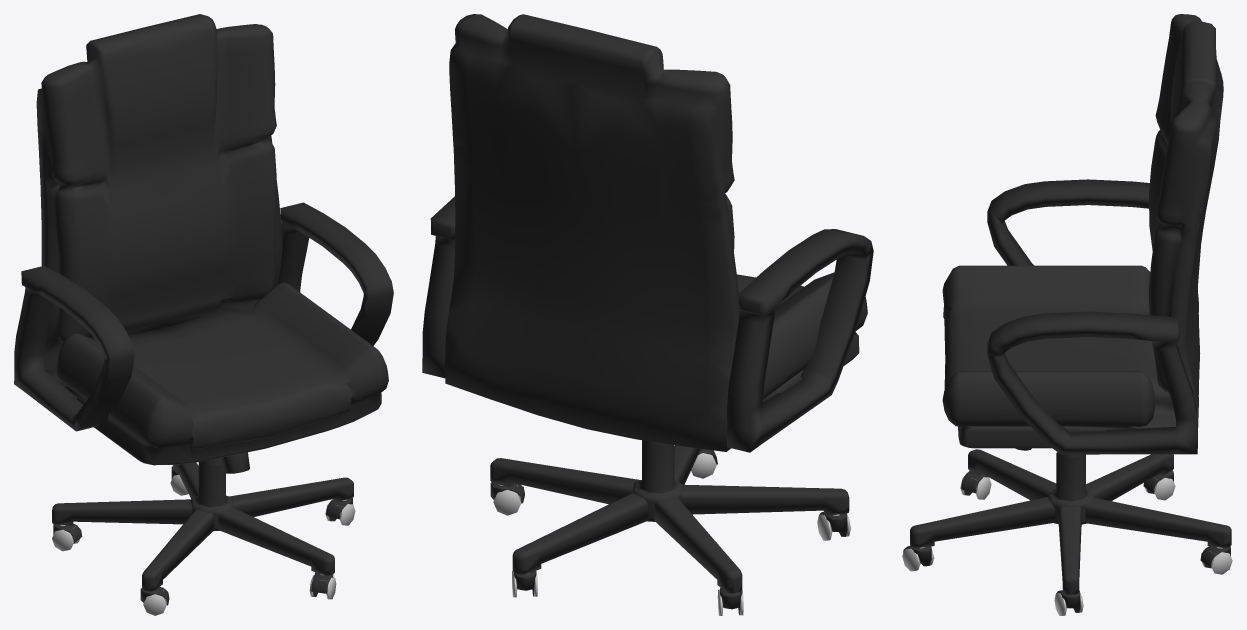
Rendered from chair.glb.
3 views of the same model, side by side, from view 1: azimuth 30°, elevation 25°; view 2: azimuth 150°, elevation 25°; view 3: azimuth 270°, elevation 25° (orthographic). The views are drawn at different scales.
Parts seen in each view (by area): view 1: ChairBack_LP, ChairSeat_LP4, pCube37, pCube38, Leg_LP2, Leg_LP5, Leg_LP4, Leg_LP1, Underside_LP, Leg_LP3; view 2: ChairBack_LP, pCube37, ChairSeat_LP4, Leg_LP1, Leg_LP3, pCube38, Leg_LP4, Leg_LP2, Underside_LP, Leg_LP5; view 3: ChairSeat_LP4, ChairBack_LP, pCube38, pCube37, Leg_LP3, Leg_LP5, Leg_LP1, Leg_LP2, Underside_LP, Leg_LP4.
Part boxes in pixels (left/top/right/bottom): ChairBack_LP: left=36, top=14, right=282, bottom=371; ChairSeat_LP4: left=46, top=282, right=388, bottom=465; pCube37: left=14, top=265, right=134, bottom=431; pCube38: left=278, top=202, right=393, bottom=345; Leg_LP2: left=52, top=499, right=192, bottom=525; Leg_LP5: left=218, top=508, right=334, bottom=575; Leg_LP4: left=229, top=477, right=353, bottom=516; Leg_LP1: left=142, top=509, right=214, bottom=591; Underside_LP: left=190, top=452, right=249, bottom=531; Leg_LP3: left=173, top=462, right=198, bottom=498; ChairBack_LP: left=445, top=14, right=739, bottom=451; pCube37: left=727, top=229, right=873, bottom=452; ChairSeat_LP4: left=737, top=272, right=867, bottom=402; Leg_LP1: left=682, top=484, right=849, bottom=515; Leg_LP3: left=512, top=493, right=648, bottom=574; pCube38: left=422, top=196, right=455, bottom=378; Leg_LP4: left=490, top=458, right=640, bottom=504; Leg_LP2: left=654, top=497, right=742, bottom=593; Underside_LP: left=632, top=440, right=683, bottom=521; Leg_LP5: left=674, top=445, right=702, bottom=484; ChairSeat_LP4: left=942, top=265, right=1175, bottom=448; ChairBack_LP: left=1149, top=14, right=1223, bottom=448; pCube38: left=987, top=311, right=1197, bottom=454; pCube37: left=987, top=179, right=1149, bottom=265; Leg_LP3: left=1085, top=498, right=1231, bottom=547; Leg_LP5: left=910, top=497, right=1055, bottom=547; Leg_LP1: left=968, top=449, right=1056, bottom=500; Leg_LP2: left=1086, top=454, right=1173, bottom=500; Underside_LP: left=1015, top=448, right=1095, bottom=524; Leg_LP4: left=1058, top=505, right=1081, bottom=594.
Bounding box in the file's own units: 0.7162 × 1.16 × 0.6948.
1 material, 1 textured.
